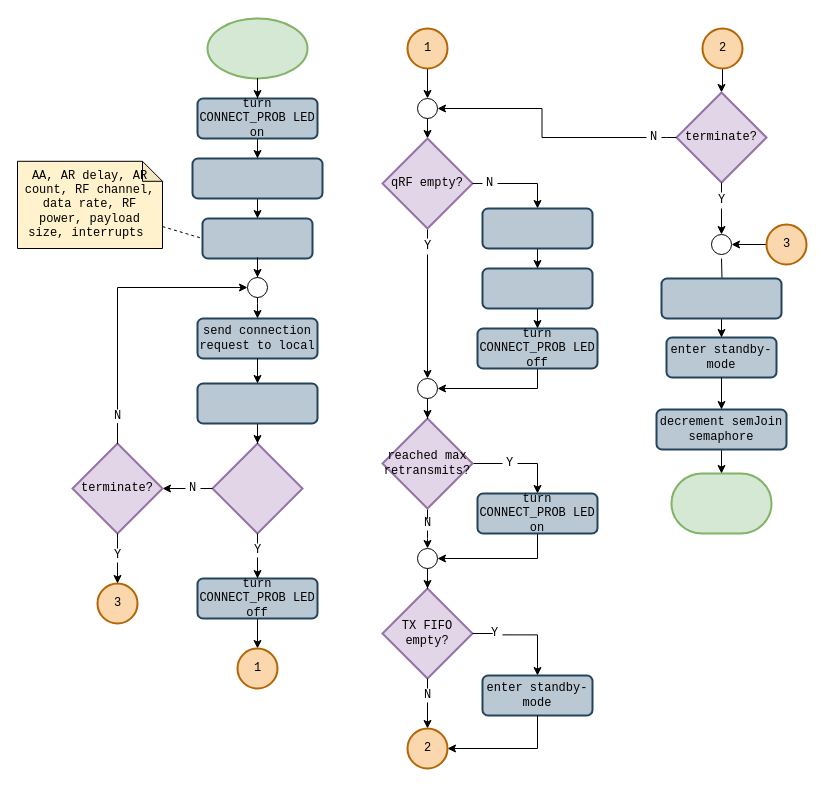
Image size: 825x786. Some labels were removed from this diagram. The shapes that lost their labels are listed below. From the top down, each one's box as (x1, y1, x2, y2) in pixels, then its label:
(206, 17, 308, 79): Start
(191, 157, 323, 199): init SPI interface and GPIO
(201, 217, 313, 259): configure RF module hardware
(481, 207, 593, 249): exit stand-by mode
(481, 267, 593, 309): dequeue one message and send
(660, 277, 782, 319): close connection with local
(196, 382, 318, 424): await response
(211, 442, 303, 534): received response?
(670, 472, 772, 534): End
